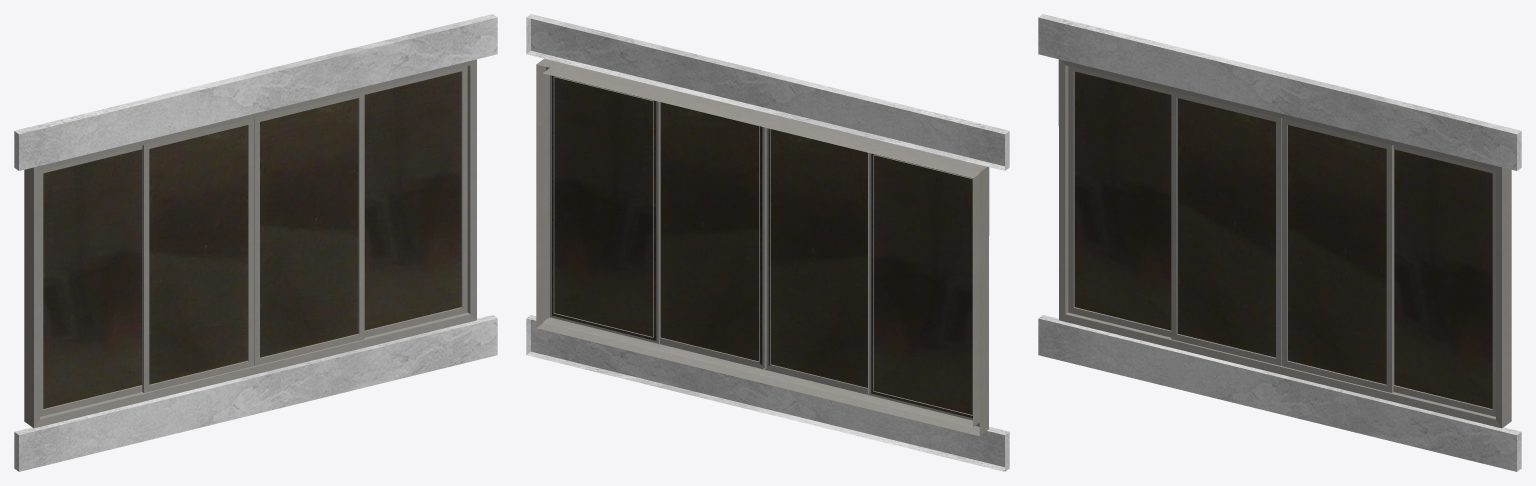
File: Window_1m_008.fbx
3 renders of one model, left to right at view 1: azimuth 30°, elevation 25°; view 2: azimuth 150°, elevation 25°; view 3: azimuth 330°, elevation 25°, orthographic.
Visible parts, largest first — view 1: Window_1m_008; view 2: Window_1m_008; view 3: Window_1m_008.
Part boxes in pixels (<box>): Window_1m_008: <box>14,14,497,471</box>; Window_1m_008: <box>526,14,1009,471</box>; Window_1m_008: <box>1038,14,1521,471</box>.
Size of the model in its own units: 148 by 100 by 6.75.
Materials: 1 (1 with a texture image).
